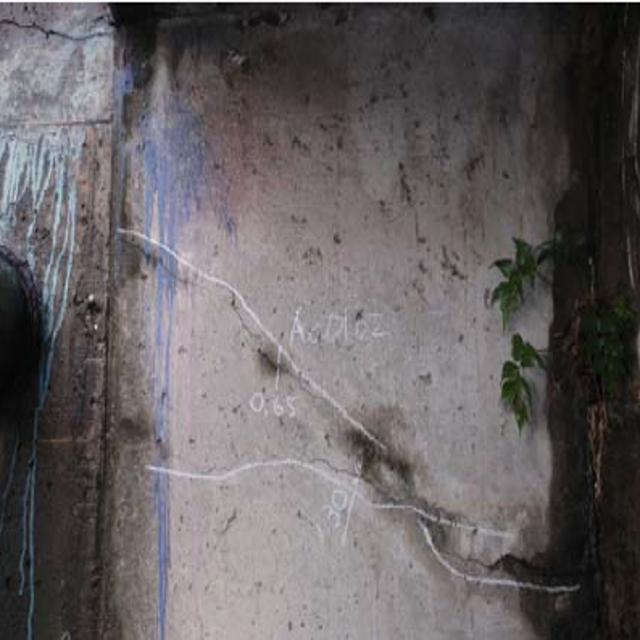crack: (97, 214, 573, 629)
